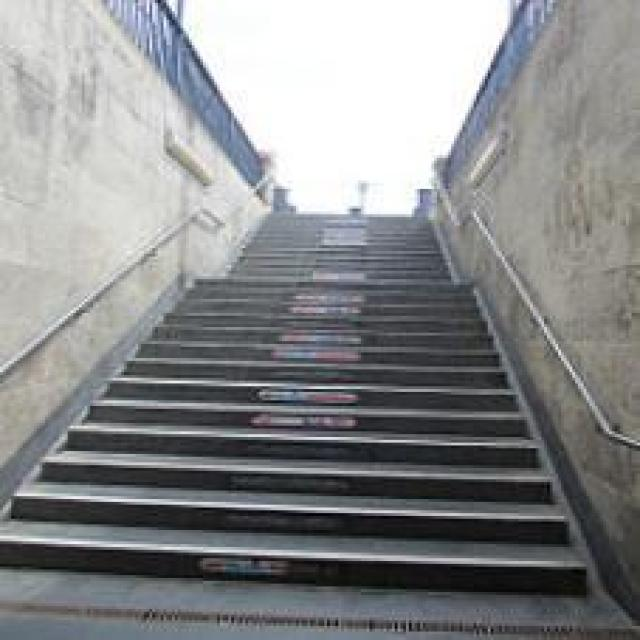upstair: (114, 308, 562, 582)
